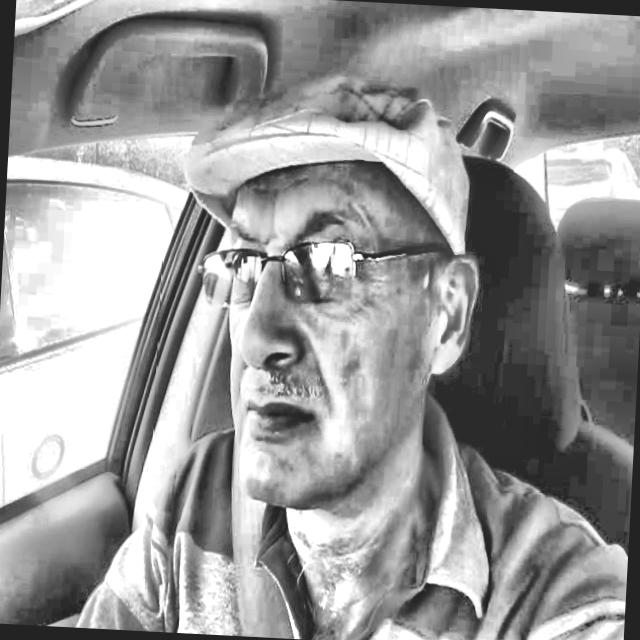closed_mouth: (228, 386, 334, 461)
